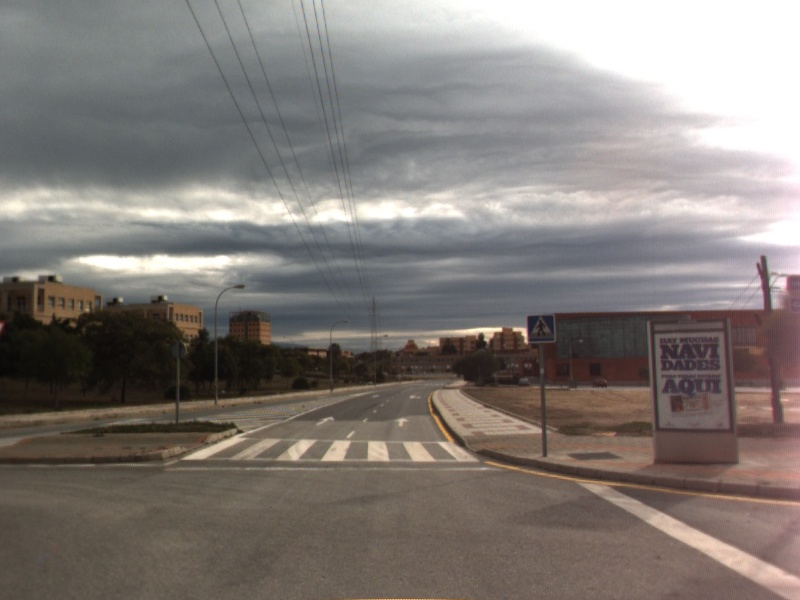STRAIGHT: (313, 414, 337, 428), (392, 414, 412, 428)
